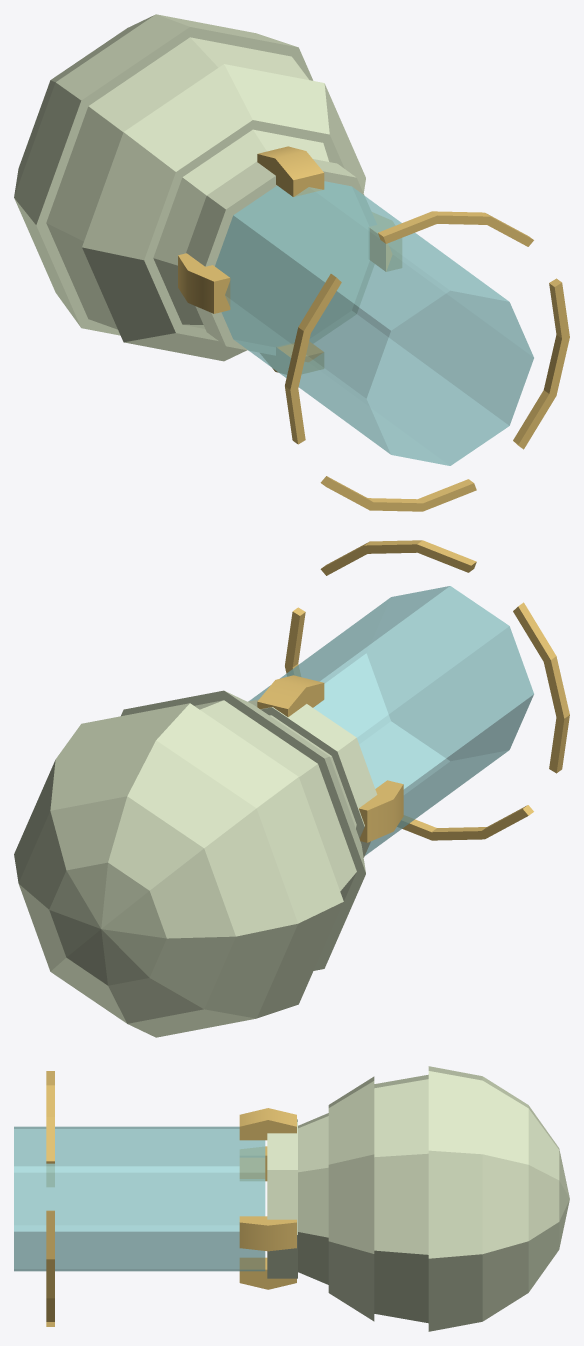
Rendered from Turret 1.fbx.
3 views of the same model, one above another, from view 1: azimuth 30°, elevation 25°; view 2: azimuth 150°, elevation 25°; view 3: azimuth 270°, elevation 25° (orthographic). The views are drawn at different scales.
Parts seen in each view (by area): view 1: Turret1, pCylinder1, pPipe5, pCube5, pCube3, pCube6, pCube4; view 2: Turret1, pCylinder1, pPipe5, pCube5, pCube3; view 3: Turret1, pCylinder1, pPipe5, pCube6, pCube3, pCube4, pCube5.
Boxes of the visible parts, x1,y1,x2,y2 form: Turret1: (14,14,376,361); pCylinder1: (215,181,533,465); pPipe5: (285,211,569,511); pCube5: (178,253,230,313); pCube3: (257,146,324,196); pCube6: (369,212,401,271); pCube4: (260,341,323,374); Turret1: (14,690,377,1037); pCylinder1: (249,586,533,855); pPipe5: (285,540,569,840); pCube5: (359,780,403,842); pCube3: (257,675,324,716); Turret1: (267,1066,569,1331); pCylinder1: (14,1126,265,1271); pPipe5: (46,1071,54,1326); pCube6: (239,1216,296,1251); pCube3: (239,1108,296,1140); pCube4: (239,1257,296,1289); pCube5: (239,1146,267,1181).
Size of the model in its own units: 0.662 by 0.662 by 1.3.
